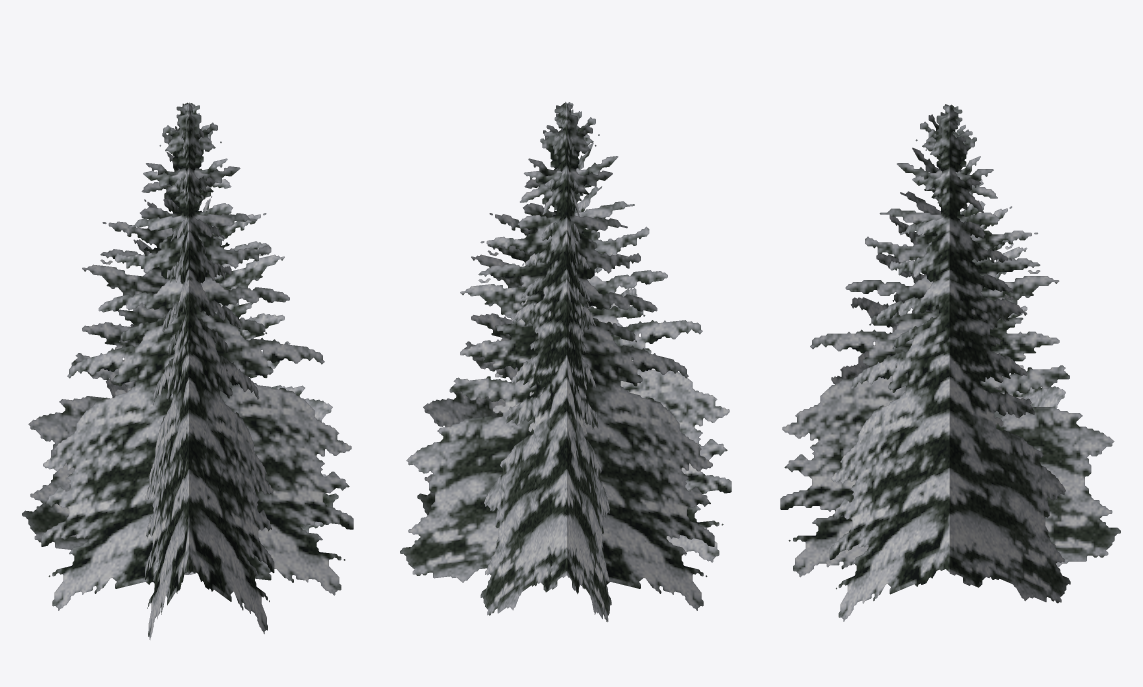
Rendered from OnlyFoliage.fbx.
The picture shows the model from 3 angles, left to right: view 1: azimuth 30°, elevation 25°; view 2: azimuth 150°, elevation 25°; view 3: azimuth 270°, elevation 25°; orthographic projection.
Visible parts, largest first — view 1: OnlyFoliage; view 2: OnlyFoliage; view 3: OnlyFoliage.
Boxes of the visible parts, x1,y1,x2,y2 form: OnlyFoliage: [22, 102, 353, 639]; OnlyFoliage: [400, 102, 731, 621]; OnlyFoliage: [780, 104, 1120, 621].
Size of the model in its own units: 1380 by 2154 by 1380.
